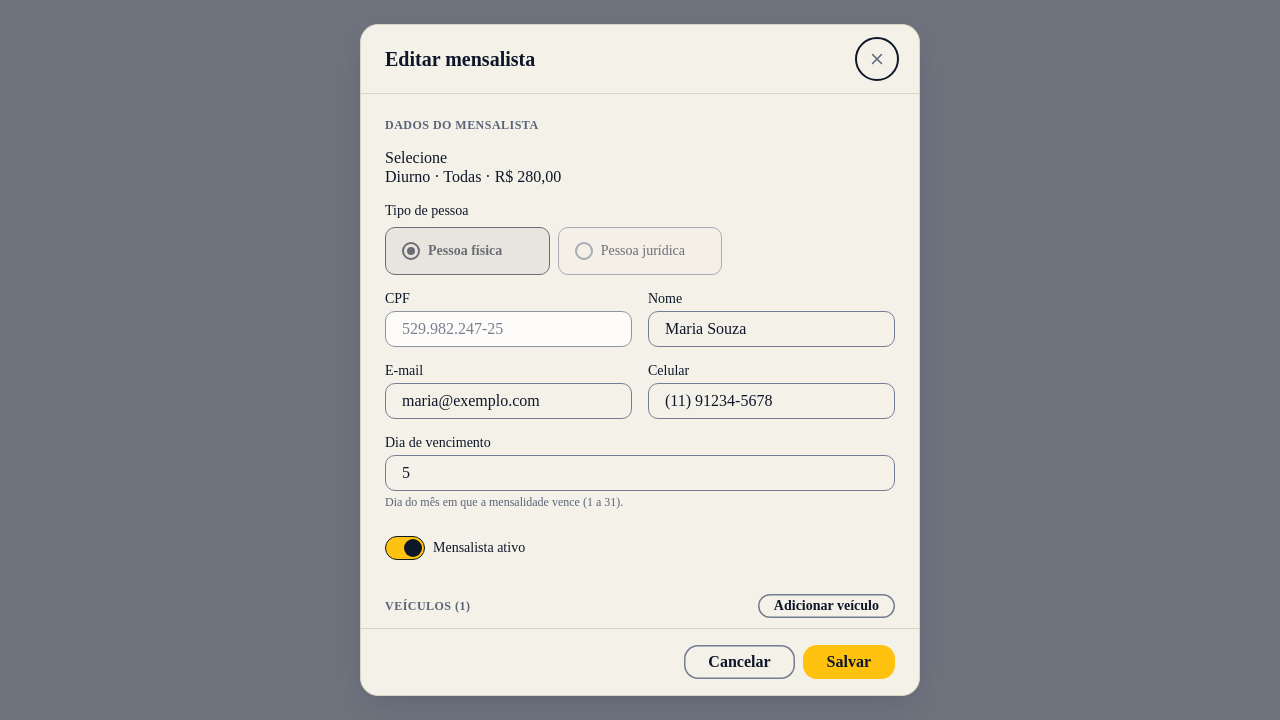
Scenario: MensalistaModal: erros do servidor nos veículos › mensagem que cita a placa vai para o campo do veículo, que abre e recebe o foco
Check: the option "Diurno" is shown, box [385, 168, 895, 187]
Step 1. Click the button "Salvar" → (849, 662), box [802, 645, 895, 679]
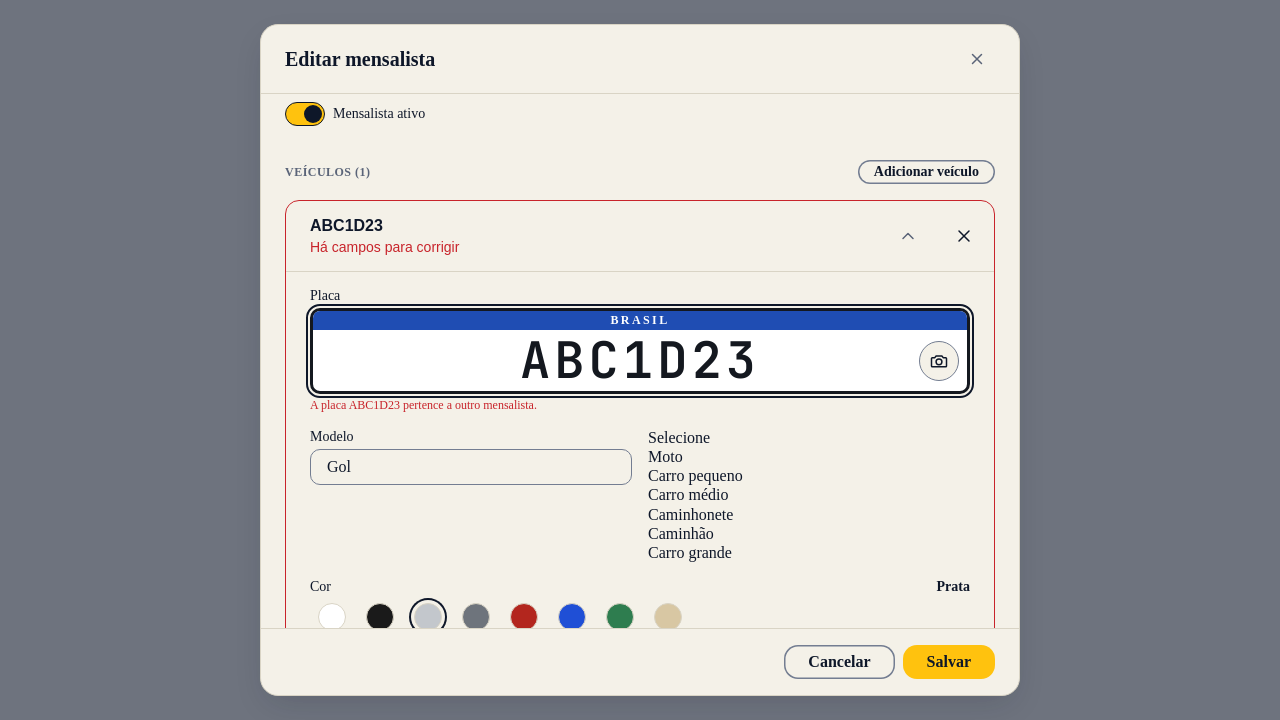
Check: the text "A placa ABC1D23 pertence a outro mensalista." is shown, box [310, 398, 537, 412]
